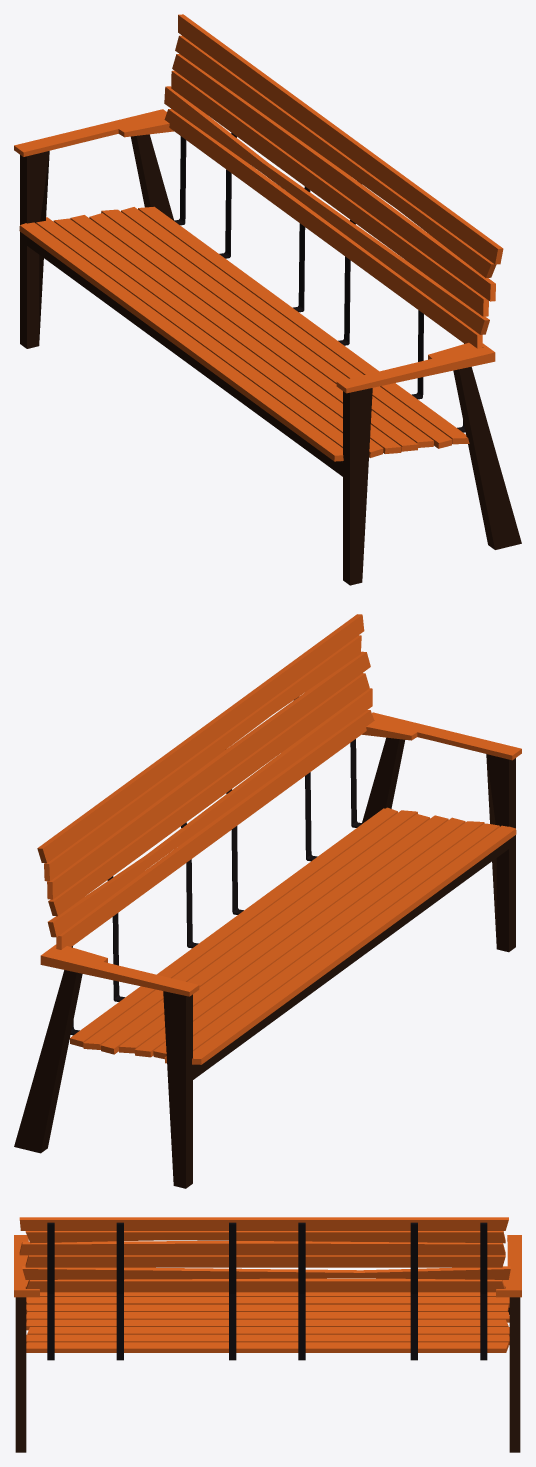
File: Bench.fbx
3 renders of one model, top to bottom at view 1: azimuth 30°, elevation 25°; view 2: azimuth 150°, elevation 25°; view 3: azimuth 270°, elevation 25°, orthographic. The views are drawn at different scales.
Parts seen in each view (by area): view 1: BackRest.001, Bench.003, FrontLegs.001, Armrest.001, Steel.001; view 2: BackRest.001, Bench.003, FrontLegs.001, Armrest.001, Steel.001; view 3: BackRest.001, Bench.003, Steel.001, FrontLegs.001, Armrest.001.
Part boxes in pixels (x1=…): BackRest.001: x1=164, y1=14, x2=503, y2=348; Bench.003: x1=19, y1=206, x2=469, y2=461; FrontLegs.001: x1=20, y1=134, x2=521, y2=585; Armrest.001: x1=14, y1=109, x2=495, y2=393; Steel.001: x1=174, y1=133, x2=465, y2=432; BackRest.001: x1=37, y1=614, x2=374, y2=949; Bench.003: x1=69, y1=807, x2=516, y2=1064; FrontLegs.001: x1=14, y1=737, x2=515, y2=1188; Armrest.001: x1=40, y1=712, x2=521, y2=996; Steel.001: x1=70, y1=697, x2=362, y2=1035; BackRest.001: x1=19, y1=1217, x2=510, y2=1292; Bench.003: x1=26, y1=1292, x2=509, y2=1352; Steel.001: x1=47, y1=1222, x2=487, y2=1360; FrontLegs.001: x1=15, y1=1297, x2=520, y2=1452; Armrest.001: x1=14, y1=1235, x2=521, y2=1297.
Bounding box in the file's own units: 217 × 343 × 694.
